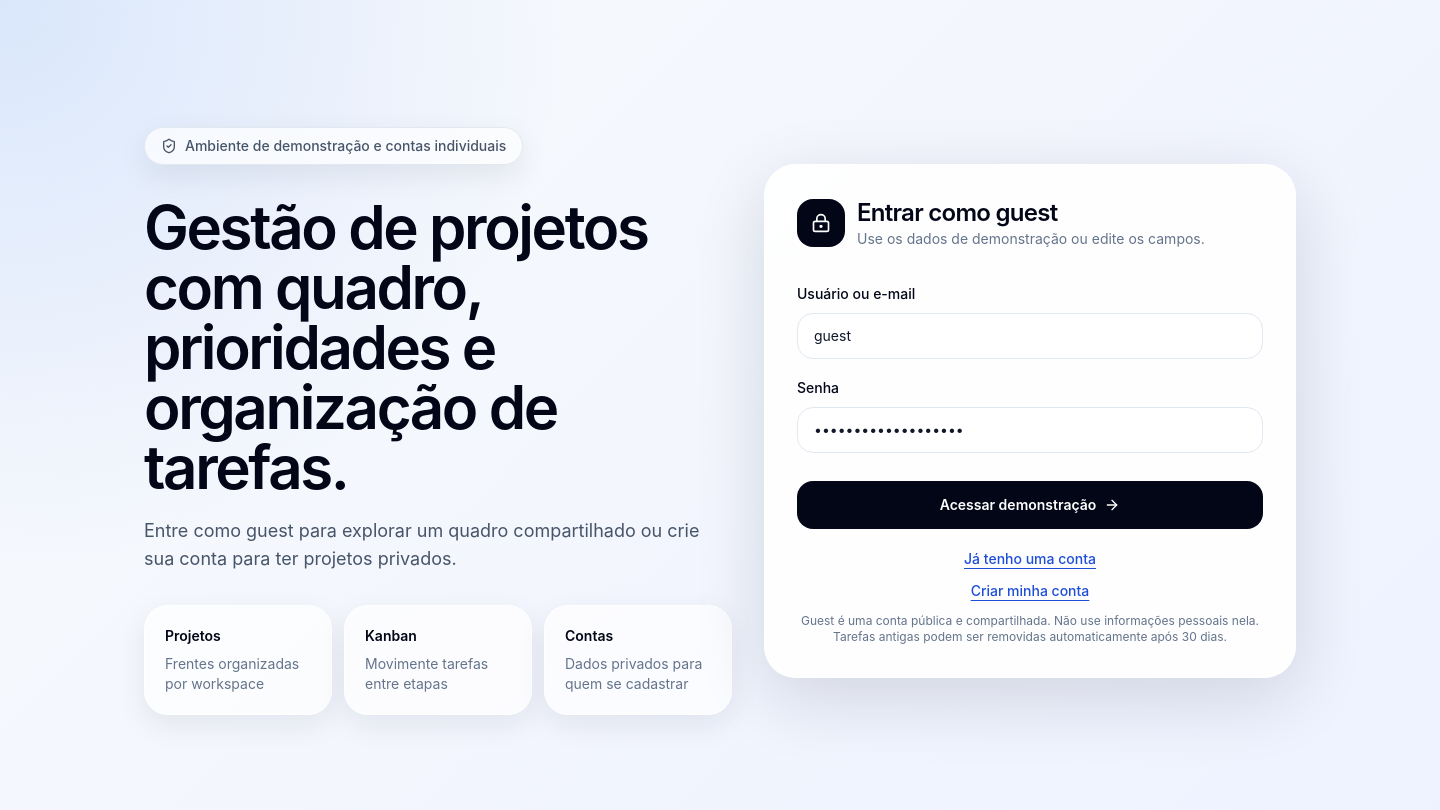
Scenario: LoginScreen › restaura as credenciais guest ao voltar do formulário da conta pessoal
The image size is (1440, 810).
Clear the field labelled "Usuário ou e-mail" at (1030, 336), box x1=797 y1=313 x2=1263 y2=359
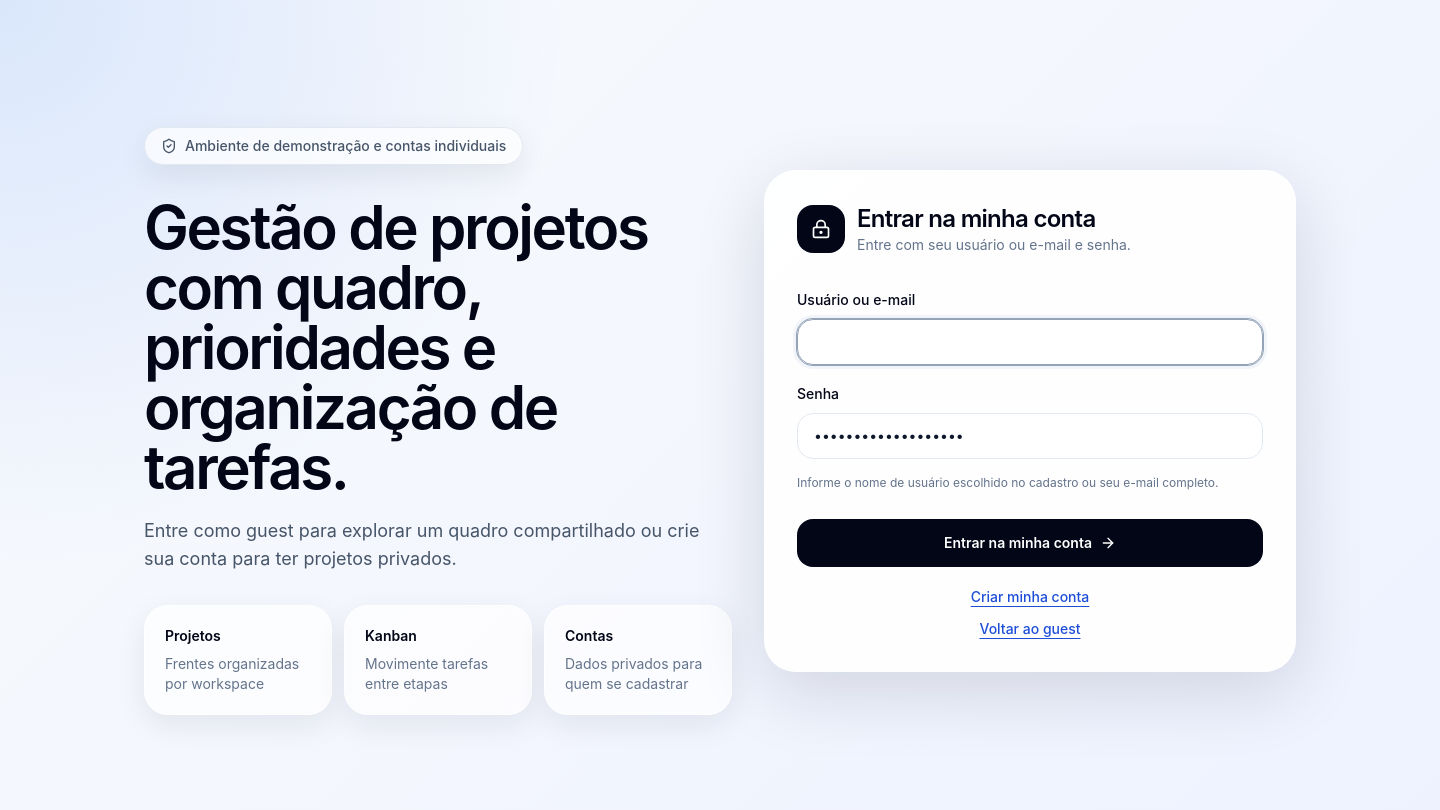
Type "outro@exemplo.com" into the field labelled "Usuário ou e-mail" at (1030, 342), box x1=797 y1=319 x2=1263 y2=365
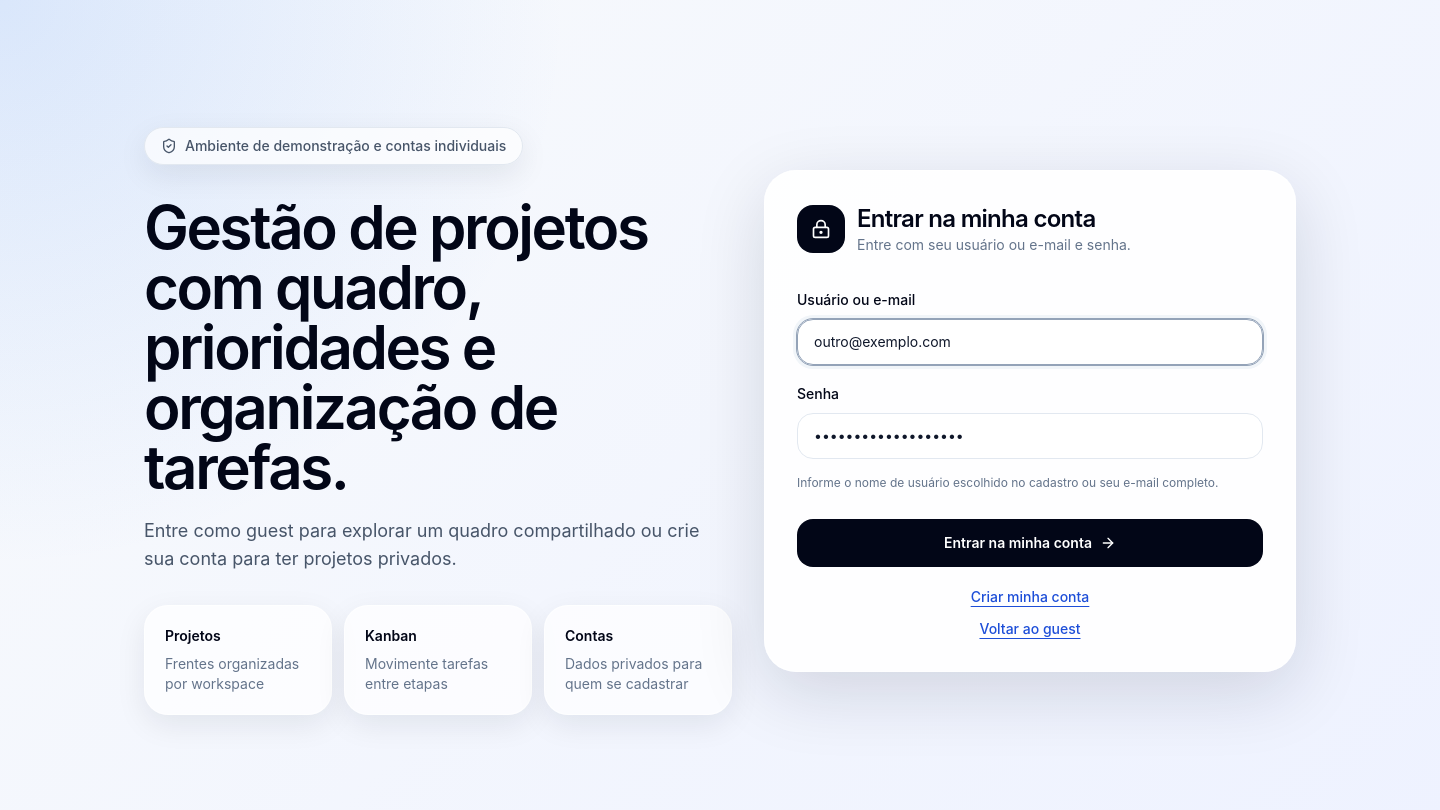
Result: the button "Entrar na minha conta" is shown at x1=797 y1=519 x2=1263 y2=567
Click the button "Voltar ao guest" at (1030, 629), box x1=797 y1=619 x2=1263 y2=639
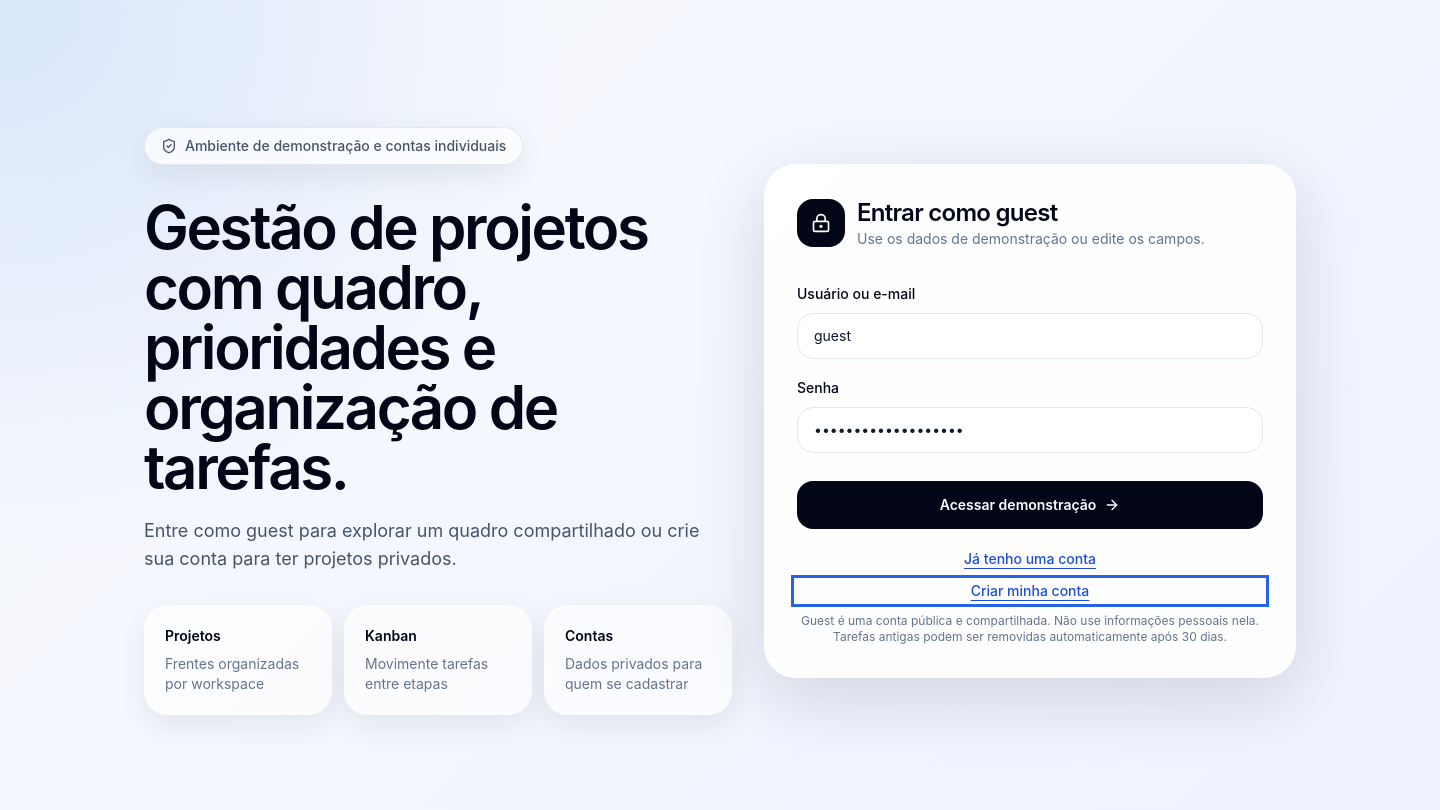
Expected: the password field labelled "Senha" holds "OrquestriaDemo2026!", x1=797 y1=407 x2=1263 y2=453
Result: the field labelled "Usuário ou e-mail" holds "guest" at x1=797 y1=313 x2=1263 y2=359
